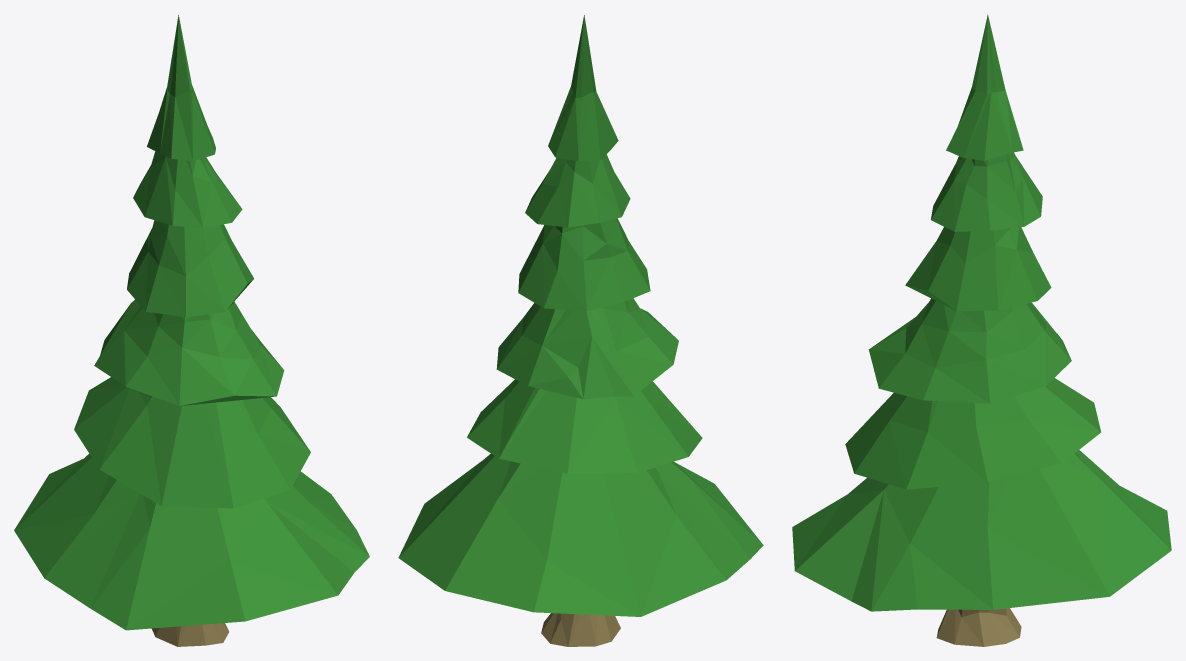
Rendered from LowPoly - FirTree 01.fbx.
3 views of the same model, side by side, from view 1: azimuth 30°, elevation 25°; view 2: azimuth 150°, elevation 25°; view 3: azimuth 270°, elevation 25° (orthographic).
Parts seen in each view (by area): view 1: LowPoly - FirTree 01; view 2: LowPoly - FirTree 01; view 3: LowPoly - FirTree 01.
Part boxes in pixels (x1,y1,x2,y2): LowPoly - FirTree 01: [14, 15, 369, 646]; LowPoly - FirTree 01: [398, 15, 763, 646]; LowPoly - FirTree 01: [792, 14, 1171, 646].
Bounding box in the file's own units: 475 × 954 × 533.
